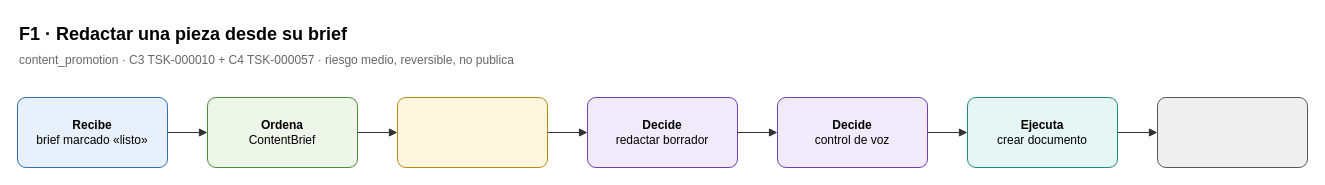
This 1325x185 diagram has some shape labels left out. The shapes that lost their labels are listed below. From the top down, each one's box as (x1, y1, x2, y2) in pixels, then its label:
(396, 96, 548, 168): Consulta memoria de marca
(1156, 96, 1308, 168): Deja rastro
